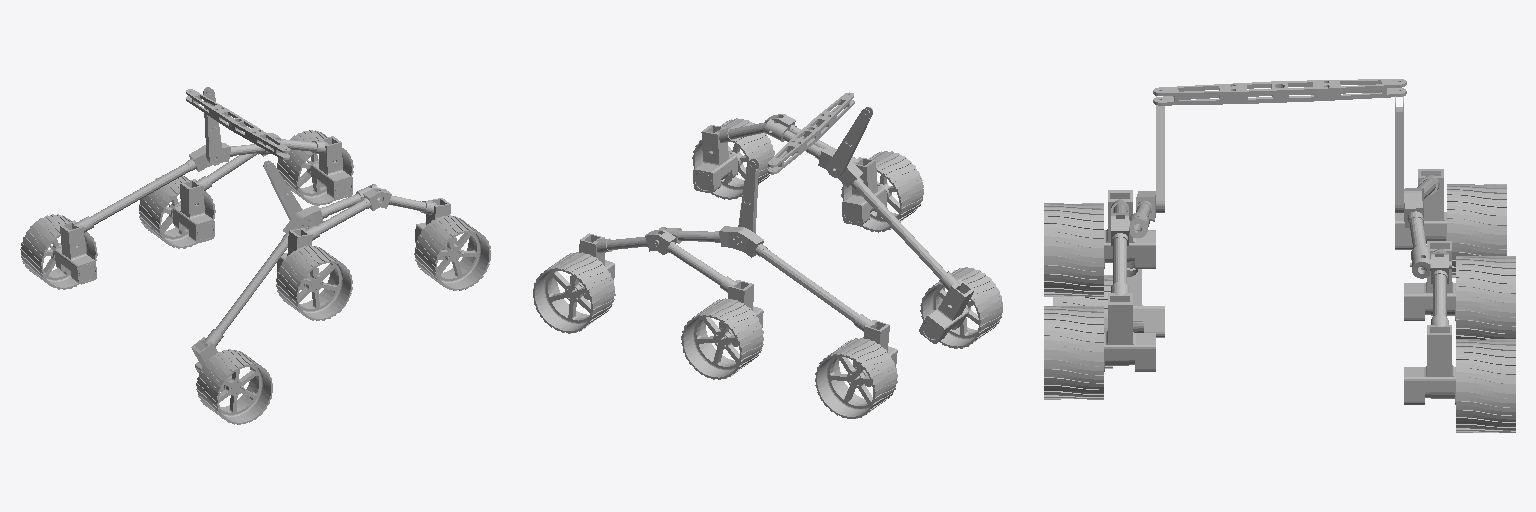
--- Facts derived from the render (not from the file) ---
The picture shows the robot from 3 angles, left to right: view 1: azimuth 30°, elevation 25°; view 2: azimuth 150°, elevation 25°; view 3: azimuth 270°, elevation 25°; orthographic projection.
Model eg_rover_description_6 with 20 links and 19 joints (1 revolute, 10 continuous, 8 fixed), rooted at base_link, posed all joints at 0.
Links seen in each view (by area): view 1: right_front_wheel, right_middle_wheel, right_rear_wheel, left_rear_wheel, left_middle_wheel, right_rocker, left_front_wheel, left_rocker, left_rear, left_middle, left_front, diff_bar (+7 smaller); view 2: left_rear_wheel, left_middle_wheel, left_front_wheel, right_rear_wheel, right_middle_wheel, left_rocker, right_rocker, right_front_wheel, right_front, right_rear, diff_bar, left_bogie (+7 smaller); view 3: left_front_wheel, right_middle_wheel, right_front_wheel, left_middle_wheel, diff_bar, left_rear_wheel, right_front, left_front, left_rear, left_rocker, left_middle, right_middle (+7 smaller).
Link boxes in pixels (x1,y1,x2,y2): right_front_wheel: (414, 215, 490, 290); right_middle_wheel: (276, 245, 352, 320); right_rear_wheel: (196, 349, 272, 424); left_rear_wheel: (20, 214, 97, 289); left_middle_wheel: (139, 175, 215, 248); right_rocker: (215, 184, 377, 334); left_front_wheel: (277, 130, 353, 205); left_rocker: (90, 139, 280, 224); left_rear: (55, 216, 96, 284); left_middle: (173, 176, 214, 242); left_front: (311, 136, 352, 199); diff_bar: (186, 89, 290, 159); left_rear_wheel: (815, 338, 897, 418); left_middle_wheel: (681, 298, 763, 379); left_front_wheel: (533, 252, 615, 333); right_rear_wheel: (920, 267, 1002, 348); right_middle_wheel: (841, 151, 923, 232); left_rocker: (659, 226, 858, 322); right_rocker: (764, 119, 946, 278); right_front_wheel: (692, 118, 774, 199); right_front: (693, 125, 737, 192); right_rear: (919, 271, 974, 343); diff_bar: (768, 92, 854, 174); left_bogie: (607, 230, 724, 284); left_front_wheel: (1456, 339, 1515, 432); right_middle_wheel: (1044, 203, 1103, 296); right_front_wheel: (1044, 306, 1103, 399); left_middle_wheel: (1456, 256, 1515, 339); diff_bar: (1153, 79, 1406, 105); left_rear_wheel: (1447, 184, 1506, 277); right_front: (1104, 282, 1155, 371); left_front: (1404, 315, 1455, 404); left_rear: (1395, 169, 1446, 249); left_rocker: (1404, 179, 1435, 278); left_middle: (1404, 241, 1455, 320); right_middle: (1104, 190, 1155, 268).
Bounding box of the posed robot: 1.15 × 1.03 × 0.7936 m (x, y, z).
Meshes: 20 distinct files referenced, 19 mesh visuals loaded (19 binary STL); not drawn: 1 (reference not matched to a file when rendering).

URDF robot description (eg_rover_description_6):
<?xml version="1.0" encoding="utf-8"?>

<robot
  name="eg_rover_description_6">
  <link
    name="base_link">
    <inertial>
      <origin
        xyz="2.38661992415745 0.504337170599516 -0.885495293586809"
        rpy="0 0 0" />
      <mass
        value="21.9558501187518" />
      <inertia
        ixx="0.0752569490227677"
        ixy="0.00142070556307953"
        ixz="1.29531988594617E-05"
        iyy="0.17820755503312"
        iyz="-1.79109940665844E-07"
        izz="0.128637677707828" />
    </inertial>
    <visual>
      <origin
        xyz="0 0 0"
        rpy="0 0 0" />
      <geometry>
        <mesh
          filename="package://eg_rover_description_6/meshes/base_link.STL" />
      </geometry>
      <material
        name="">
        <color
          rgba="0.752941176470588 0.752941176470588 0.752941176470588 1" />
      </material>
    </visual>
    <collision>
      <origin
        xyz="0 0 0"
        rpy="0 0 0" />
      <geometry>
        <mesh
          filename="package://eg_rover_description_6/meshes/base_link.STL" />
      </geometry>
    </collision>
  </link>
  <link
    name="left_bar_to_rocker_part">
    <inertial>
      <origin
        xyz="-0.000918725857865343 0.0832304537898531 -0.0119005930670613"
        rpy="0 0 0" />
      <mass
        value="0.308748627193075" />
      <inertia
        ixx="0.00044687239184303"
        ixy="4.21523166255905E-06"
        ixz="3.42081987813343E-07"
        iyy="6.50469609482496E-05"
        iyz="-3.09903534747858E-05"
        izz="0.000470289309245914" />
    </inertial>
    <visual>
      <origin
        xyz="0 0 0"
        rpy="0 0 0" />
      <geometry>
        <mesh
          filename="package://eg_rover_description_6/meshes/left_bar_to_rocker_part.STL" />
      </geometry>
      <material
        name="">
        <color
          rgba="0.752941176470588 0.752941176470588 0.752941176470588 1" />
      </material>
    </visual>
    <collision>
      <origin
        xyz="0 0 0"
        rpy="0 0 0" />
      <geometry>
        <mesh
          filename="package://eg_rover_description_6/meshes/left_bar_to_rocker_part.STL" />
      </geometry>
    </collision>
  </link>
  <joint
    name="left_bar_to_rocker_part"
    type="continuous">
    <origin
      xyz="2.4025478208424 1.13655297354084 0.480446093957099"
      rpy="1.5707963267949 -0.0840543003467953 0" />
    <parent
      link="base_link" />
    <child
      link="left_bar_to_rocker_part" />
    <axis
      xyz="0 0 1" />
  </joint>
  <link
    name="left_rocker">
    <inertial>
      <origin
        xyz="2.35091117701467 0.439107018325555 -1.18782206610311"
        rpy="0 0 0" />
      <mass
        value="0.787174719629345" />
      <inertia
        ixx="0.000666994809630536"
        ixy="-0.00122943811392355"
        ixz="-0.000400522360860901"
        iyy="0.00572484548325491"
        iyz="-0.000129201406496319"
        izz="0.00612253885749675" />
    </inertial>
    <visual>
      <origin
        xyz="0 0 0"
        rpy="0 0 0" />
      <geometry>
        <mesh
          filename="package://eg_rover_description_6/meshes/left_rocker.STL" />
      </geometry>
      <material
        name="">
        <color
          rgba="0.752941176470588 0.752941176470588 0.752941176470588 1" />
      </material>
    </visual>
    <collision>
      <origin
        xyz="0 0 0"
        rpy="0 0 0" />
      <geometry>
        <mesh
          filename="package://eg_rover_description_6/meshes/left_rocker.STL" />
      </geometry>
    </collision>
  </link>
  <joint
    name="left_bar_to_rocker_to_left_rocker"
    type="fixed">
    <origin
      xyz="-2.40250332942615 -0.48066852687615 1.13655297354084"
      rpy="0 0 9.25829557298728E-05" />
    <parent
      link="left_bar_to_rocker_part" />
    <child
      link="left_rocker" />
    <axis
      xyz="0 0 0" />
  </joint>
  <link
    name="left_bogie">
    <inertial>
      <origin
        xyz="-0.0193408184557593 -0.0314596032232477 -0.0637929305008118"
        rpy="0 0 0" />
      <mass
        value="0.454623116483445" />
      <inertia
        ixx="0.000261881391134114"
        ixy="-7.54087304186821E-05"
        ixz="-7.47425763902341E-10"
        iyy="0.00132611093813923"
        iyz="-1.23979965317765E-08"
        izz="0.00147758149592174" />
    </inertial>
    <visual>
      <origin
        xyz="0 0 0"
        rpy="0 0 0" />
      <geometry>
        <mesh
          filename="package://eg_rover_description_6/meshes/left_bogie.STL" />
      </geometry>
      <material
        name="">
        <color
          rgba="0.752941176470588 0.752941176470588 0.752941176470588 1" />
      </material>
    </visual>
    <collision>
      <origin
        xyz="0 0 0"
        rpy="0 0 0" />
      <geometry>
        <mesh
          filename="package://eg_rover_description_6/meshes/left_bogie.STL" />
      </geometry>
    </collision>
  </link>
  <joint
    name="left_rocker_to_bogie"
    type="continuous">
    <origin
      xyz="2.63771809203281 0.42018326822563 -1.17046699823171"
      rpy="0 0 0.00708892913797644" />
    <parent
      link="left_rocker" />
    <child
      link="left_bogie" />
    <axis
      xyz="0 0 1" />
  </joint>
  <link
    name="left_front">
    <inertial>
      <origin
        xyz="-0.0090609952026921 -0.0282472262167399 -0.101198405920529"
        rpy="0 0 0" />
      <mass
        value="0.984700202432668" />
      <inertia
        ixx="0.00201654345075244"
        ixy="-0.000109327083824658"
        ixz="1.31986921756132E-05"
        iyy="0.00169995942513083"
        iyz="4.47178894633139E-05"
        izz="0.00111748161524583" />
    </inertial>
    <visual>
      <origin
        xyz="0 0 0"
        rpy="0 0 0" />
      <geometry>
        <mesh
          filename="package://eg_rover_description_6/meshes/left_front.STL" />
      </geometry>
      <material
        name="">
        <color
          rgba="0.752941176470588 0.752941176470588 0.752941176470588 1" />
      </material>
    </visual>
    <collision>
      <origin
        xyz="0 0 0"
        rpy="0 0 0" />
      <geometry>
        <mesh
          filename="package://eg_rover_description_6/meshes/left_front.STL" />
      </geometry>
    </collision>
  </link>
  <joint
    name="left_bogie_to_front"
    type="fixed">
    <origin
      xyz="0.215420027178198 -0.203893954501996 -0.161499999999192"
      rpy="-3.14159265358935 0 -0.347551310992827" />
    <parent
      link="left_bogie" />
    <child
      link="left_front" />
    <axis
      xyz="0 0 0" />
  </joint>
  <link
    name="left_front_wheel">
    <inertial>
      <origin
        xyz="-4.15813872887139E-05 8.72209776181521E-06 0.00232056241112288"
        rpy="0 0 0" />
      <mass
        value="0.911975447556342" />
      <inertia
        ixx="0.00433350012733774"
        ixy="1.30282817456608E-08"
        ixz="2.51190680234649E-08"
        iyy="0.00433349182612928"
        iyz="1.83304483959681E-08"
        izz="0.00705740745246957" />
    </inertial>
    <visual>
      <origin
        xyz="0 0 0"
        rpy="0 0 0" />
      <geometry>
        <mesh
          filename="package://eg_rover_description_6/meshes/left_front_wheel.STL" />
      </geometry>
      <material
        name="">
        <color
          rgba="0.752941176470588 0.752941176470588 0.752941176470588 1" />
      </material>
    </visual>
    <collision>
      <origin
        xyz="0 0 0"
        rpy="0 0 0" />
      <geometry>
        <mesh
          filename="package://eg_rover_description_6/meshes/left_front_wheel.STL" />
      </geometry>
    </collision>
  </link>
  <joint
    name="left_front_wheel"
    type="continuous">
    <origin
      xyz="0 0 0"
      rpy="0 0 0.858525155785996" />
    <parent
      link="left_front" />
    <child
      link="left_front_wheel" />
    <axis
      xyz="0 0 1" />
  </joint>
  <link
    name="left_middle">
    <inertial>
      <origin
        xyz="-0.00772152249504865 -0.0286429728655598 -0.101198400038664"
        rpy="0 0 0" />
      <mass
        value="0.984700191454108" />
      <inertia
        ixx="0.00202296173998039"
        ixy="-9.93989986102843E-05"
        ixz="1.3242890821538E-05"
        iyy="0.00169354112397644"
        iyz="4.47533049999543E-05"
        izz="0.0011174816249343" />
    </inertial>
    <visual>
      <origin
        xyz="0 0 0"
        rpy="0 0 0" />
      <geometry>
        <mesh
          filename="package://eg_rover_description_6/meshes/left_middle.STL" />
      </geometry>
      <material
        name="">
        <color
          rgba="0.752941176470588 0.752941176470588 0.752941176470588 1" />
      </material>
    </visual>
    <collision>
      <origin
        xyz="0 0 0"
        rpy="0 0 0" />
      <geometry>
        <mesh
          filename="package://eg_rover_description_6/meshes/left_middle.STL" />
      </geometry>
    </collision>
  </link>
  <joint
    name="left_bogie_to_middle"
    type="fixed">
    <origin
      xyz="-0.286461854062516 -0.190525033440399 -0.161500000000126"
      rpy="-3.14159265358935 0 -0.347551310992871" />
    <parent
      link="left_bogie" />
    <child
      link="left_middle" />
    <axis
      xyz="0 0 0" />
  </joint>
  <link
    name="left_middle_wheel">
    <inertial>
      <origin
        xyz="-4.15813873553272E-05 8.72209784663625E-06 0.00232056241112577"
        rpy="0 0 0" />
      <mass
        value="0.911975447556327" />
      <inertia
        ixx="0.00433350012733773"
        ixy="1.30282818173246E-08"
        ixz="2.51190686647742E-08"
        iyy="0.00433349182612915"
        iyz="1.83304483850796E-08"
        izz="0.00705740745246946" />
    </inertial>
    <visual>
      <origin
        xyz="0 0 0"
        rpy="0 0 0" />
      <geometry>
        <mesh
          filename="package://eg_rover_description_6/meshes/left_middle_wheel.STL" />
      </geometry>
      <material
        name="">
        <color
          rgba="0.752941176470588 0.752941176470588 0.752941176470588 1" />
      </material>
    </visual>
    <collision>
      <origin
        xyz="0 0 0"
        rpy="0 0 0" />
      <geometry>
        <mesh
          filename="package://eg_rover_description_6/meshes/left_middle_wheel.STL" />
      </geometry>
    </collision>
  </link>
  <joint
    name="left_middle_wheel"
    type="continuous">
    <origin
      xyz="0 0 0"
      rpy="0 0 0.699300464127683" />
    <parent
      link="left_middle" />
    <child
      link="left_middle_wheel" />
    <axis
      xyz="0 0 1" />
  </joint>
  <link
    name="left_rear">
    <inertial>
      <origin
        xyz="-0.00753898041950563 -0.0301681728303583 -0.101202571046475"
        rpy="0 0 0" />
      <mass
        value="1.00010048823147" />
      <inertia
        ixx="0.00203113945682491"
        ixy="-9.09814090441685E-05"
        ixz="1.5327739408665E-05"
        iyy="0.00171141337078556"
        iyz="4.34814787168556E-05"
        izz="0.00114006960607522" />
    </inertial>
    <visual>
      <origin
        xyz="0 0 0"
        rpy="0 0 0" />
      <geometry>
        <mesh
          filename="package://eg_rover_description_6/meshes/left_rear.STL" />
      </geometry>
      <material
        name="">
        <color
          rgba="0.752941176470588 0.752941176470588 0.752941176470588 1" />
      </material>
    </visual>
    <collision>
      <origin
        xyz="0 0 0"
        rpy="0 0 0" />
      <geometry>
        <mesh
          filename="package://eg_rover_description_6/meshes/left_rear.STL" />
      </geometry>
    </collision>
  </link>
  <joint
    name="left_rocker_to_rear"
    type="fixed">
    <origin
      xyz="1.91229634516248 0.232146570056845 -1.31281574342478"
      rpy="-3.14159265358946 0 -0.275906441277532" />
    <parent
      link="left_rocker" />
    <child
      link="left_rear" />
    <axis
      xyz="0 0 0" />
  </joint>
  <link
    name="left_rear_wheel">
    <inertial>
      <origin
        xyz="-4.15813893461792E-05 8.72209708058236E-06 0.00232056241112466"
        rpy="0 0 0" />
      <mass
        value="0.911975447556332" />
      <inertia
        ixx="0.00433350012733774"
        ixy="1.3028281812769E-08"
        ixz="2.51190691343233E-08"
        iyy="0.00433349182612919"
        iyz="1.83304484198715E-08"
        izz="0.00705740745246952" />
    </inertial>
    <visual>
      <origin
        xyz="0 0 0"
        rpy="0 0 0" />
      <geometry>
        <mesh
          filename="package://eg_rover_description_6/meshes/left_rear_wheel.STL" />
      </geometry>
      <material
        name="">
        <color
          rgba="0.752941176470588 0.752941176470588 0.752941176470588 1" />
      </material>
    </visual>
    <collision>
      <origin
        xyz="0 0 0"
        rpy="0 0 0" />
      <geometry>
        <mesh
          filename="package://eg_rover_description_6/meshes/left_rear_wheel.STL" />
      </geometry>
    </collision>
  </link>
  <joint
    name="left_rear_wheel"
    type="continuous">
    <origin
      xyz="0 0 0"
      rpy="0 0 0.636177629456517" />
    <parent
      link="left_rear" />
    <child
      link="left_rear_wheel" />
    <axis
      xyz="0 0 1" />
  </joint>
  <link
    name="right_bar_to_rocker_part">
    <inertial>
      <origin
        xyz="0.0027325888668881 0.0831906572490931 -0.0280994069330528"
        rpy="0 0 0" />
      <mass
        value="0.308748627193075" />
      <inertia
        ixx="0.000446507295907767"
        ixy="-1.25314722090995E-05"
        ixz="1.01746285182487E-06"
        iyy="6.54120568835812E-05"
        iyz="3.09755354748057E-05"
        izz="0.000470289309245848" />
    </inertial>
    <visual>
      <origin
        xyz="0 0 0"
        rpy="0 0 0" />
      <geometry>
        <mesh
          filename="package://eg_rover_description_6/meshes/right_bar_to_rocker_part.STL" />
      </geometry>
      <material
        name="">
        <color
          rgba="0.752941176470588 0.752941176470588 0.752941176470588 1" />
      </material>
    </visual>
    <collision>
      <origin
        xyz="0 0 0"
        rpy="0 0 0" />
      <geometry>
        <mesh
          filename="package://eg_rover_description_6/meshes/right_bar_to_rocker_part.STL" />
      </geometry>
    </collision>
  </link>
  <joint
    name="right_bar_to_rocker_part"
    type="continuous">
    <origin
      xyz="2.40254782084161 0.594552973540831 0.480446093955982"
      rpy="1.5707963267949 -0.509027810384565 0" />
    <parent
      link="base_link" />
    <child
      link="right_bar_to_rocker_part" />
    <axis
      xyz="0 0 1" />
  </joint>
  <link
    name="right_rocker">
    <inertial>
      <origin
        xyz="2.34643853311514 0.438139985875483 -0.582650304965621"
        rpy="0 0 0" />
      <mass
        value="0.737544718103938" />
      <inertia
        ixx="0.000591741128773476"
        ixy="-0.00111330230843845"
        ixz="0.000402541844146693"
        iyy="0.00570759748254399"
        iyz="0.000120389662982498"
        izz="0.00604485187841453" />
    </inertial>
    <visual>
      <origin
        xyz="0 0 0"
        rpy="0 0 0" />
      <geometry>
        <mesh
          filename="package://eg_rover_description_6/meshes/right_rocker.STL" />
      </geometry>
      <material
        name="">
        <color
          rgba="0.752941176470588 0.752941176470588 0.752941176470588 1" />
      </material>
    </visual>
    <collision>
      <origin
        xyz="0 0 0"
        rpy="0 0 0" />
      <geometry>
        <mesh
          filename="package://eg_rover_description_6/meshes/right_rocker.STL" />
      </geometry>
    </collision>
  </link>
  <joint
    name="right_bar_to_rocker_to_right_rocker"
    type="fixed">
    <origin
      xyz="-2.41208421327916 -0.430016544651362 0.594552973540831"
      rpy="0 0 -0.0209476881593108" />
    <parent
      link="right_bar_to_rocker_part" />
    <child
      link="right_rocker" />
    <axis
      xyz="0 0 0" />
  </joint>
  <link
    name="right_bogie">
    <inertial>
      <origin
        xyz="-0.019929533157355 -0.0325479043467601 -0.0209593529062523"
        rpy="0 0 0" />
      <mass
        value="0.43990576066683" />
      <inertia
        ixx="0.000256317299794027"
        ixy="-7.73170052505528E-05"
        ixz="7.38788938717426E-10"
        iyy="0.00131999900583864"
        iyz="1.23988144106525E-08"
        izz="0.00147676429447227" />
    </inertial>
    <visual>
      <origin
        xyz="0 0 0"
        rpy="0 0 0" />
      <geometry>
        <mesh
          filename="package://eg_rover_description_6/meshes/right_bogie.STL" />
      </geometry>
      <material
        name="">
        <color
          rgba="0.752941176470588 0.752941176470588 0.752941176470588 1" />
      </material>
    </visual>
    <collision>
      <origin
        xyz="0 0 0"
        rpy="0 0 0" />
      <geometry>
        <mesh
          filename="package://eg_rover_description_6/meshes/right_bogie.STL" />
      </geometry>
    </collision>
  </link>
  <joint
    name="right_rocker_to_bogie"
    type="continuous">
    <origin
      xyz="2.63628092293658 0.414829772803047 -0.515685209774159"
      rpy="0 0 -0.488080122225254" />
    <parent
      link="right_rocker" />
    <child
      link="right_bogie" />
    <axis
      xyz="0 0 1" />
  </joint>
  <link
    name="right_front">
    <inertial>
      <origin
        xyz="-0.00772095536529127 -0.0286425197716159 -0.101198400044725"
        rpy="0 0 0" />
      <mass
        value="0.984700190697898" />
      <inertia
        ixx="0.00202295937794559"
        ixy="-9.93984690776743E-05"
        ixz="1.31987274542782E-05"
        iyy="0.00169354348541162"
        iyz="4.47180111132429E-05"
        izz="0.00111748161412814" />
    </inertial>
    <visual>
      <origin
        xyz="0 0 0"
        rpy="0 0 0" />
      <geometry>
        <mesh
          filename="package://eg_rover_description_6/meshes/right_front.STL" />
      </geometry>
      <material
        name="">
        <color
          rgba="0.752941176470588 0.752941176470588 0.752941176470588 1" />
      </material>
    </visual>
    <collision>
      <origin
        xyz="0 0 0"
        rpy="0 0 0" />
      <geometry>
        <mesh
          filename="package://eg_rover_description_6/meshes/right_front.STL" />
      </geometry>
    </collision>
  </link>
  <joint
    name="right_front"
    type="fixed">
    <origin
      xyz="0.215785375587514 -0.203507259021123 0.0765462609250908"
      rpy="0 0 -2.91364691374163" />
    <parent
      link="right_bogie" />
    <child
      link="right_front" />
    <axis
      xyz="0 0 0" />
  </joint>
  <link
    name="right_front_wheel">
    <inertial>
      <origin
        xyz="-4.15813950680466E-05 8.72210229807546E-06 0.00232056242183581"
        rpy="0 0 0" />
      <mass
        value="0.911975447964754" />
      <inertia
        ixx="0.00433350012751831"
        ixy="1.30282818670705E-08"
        ixz="2.51190414435252E-08"
        iyy="0.0043334918263162"
        iyz="1.8330368239632E-08"
        izz="0.00705740745247098" />
    </inertial>
    <visual>
      <origin
        xyz="0 0 0"
        rpy="0 0 0" />
      <geometry>
        <mesh
          filename="package://eg_rover_description_6/meshes/right_front_wheel.STL" />
      </geometry>
      <material
        name="">
        <color
          rgba="0.752941176470588 0.752941176470588 0.752941176470588 1" />
      </material>
    </visual>
    <collision>
      <origin
        xyz="0 0 0"
        rpy="0 0 0" />
      <geometry>
        <mesh
          filename="package://eg_rover_description_6/meshes/right_front_wheel.STL" />
      </geometry>
    </collision>
  </link>
  <joint
    name="right_front_wheel"
    type="continuous">
    <origin
      xyz="0 0 0"
      rpy="0 0 0.188763213719474" />
    <parent
      link="right_front" />
    <child
      link="right_front_wheel" />
    <axis
      xyz="0 0 1" />
  </joint>
  <link
    name="right_middle">
    <inertial>
      <origin
        xyz="-0.00909825232196759 -0.0283795775743039 -0.101224880231788"
        rpy="0 0 0" />
      <mass
        value="0.987119607435848" />
      <inertia
        ixx="0.00201694898932086"
        ixy="-0.000109439332842155"
        ixz="1.31986913632115E-05"
        iyy="0.0017000175120106"
        iyz="4.4717886155626E-05"
        izz="0.00111792023961772" />
    </inertial>
    <visual>
      <origin
        xyz="0 0 0"
        rpy="0 0 0" />
      <geometry>
        <mesh
          filename="package://eg_rover_description_6/meshes/right_middle.STL" />
      </geometry>
      <material
        name="">
        <color
          rgba="0.752941176470588 0.752941176470588 0.752941176470588 1" />
      </material>
    </visual>
    <collision>
      <origin
        xyz="0 0 0"
        rpy="0 0 0" />
      <geometry>
        <mesh
          filename="package://eg_rover_description_6/meshes/right_middle.STL" />
      </geometry>
    </collision>
  </link>
  <joint
    name="right_middle"
    type="fixed">
    <origin
      xyz="-0.286119676303167 -0.191038511908769 0.0765462609241698"
      rpy="0 0 -2.91364691374163" />
    <parent
      link="right_bogie" />
    <child
      link="right_middle" />
    <axis
      xyz="0 0 0" />
  </joint>
  <link
    name="right_middle_wheel">
    <inertial>
      <origin
        xyz="-4.15813948939636E-05 8.72210195879131E-06 0.00232056242241629"
        rpy="0 0 0" />
      <mass
        value="0.911975447986274" />
      <inertia
        ixx="0.004333500127529"
        ixy="1.30282823203754E-08"
        ixz="2.51190287856415E-08"
        iyy="0.00433349182632662"
        iyz="1.83303758752248E-08"
        izz="0.00705740745247123" />
    </inertial>
    <visual>
      <origin
        xyz="0 0 0"
        rpy="0 0 0" />
      <geometry>
        <mesh
          filename="package://eg_rover_description_6/meshes/right_middle_wheel.STL" />
      </geometry>
      <material
        name="">
        <color
          rgba="0.752941176470588 0.752941176470588 0.752941176470588 1" />
      </material>
    </visual>
    <collision>
      <origin
        xyz="0 0 0"
        rpy="0 0 0" />
      <geometry>
        <mesh
          filename="package://eg_rover_description_6/meshes/right_middle_wheel.STL" />
      </geometry>
    </collision>
  </link>
  <joint
    name="right_middle_wheel"
    type="continuous">
    <origin
      xyz="0 0 0"
      rpy="0 0 0.014230288520328" />
    <parent
      link="right_middle" />
    <child
      link="right_middle_wheel" />
    <axis
      xyz="0 0 1" />
  </joint>
  <link
    name="right_rear">
    <inertial>
      <origin
        xyz="-0.0100416703680366 -0.0294299351766889 -0.101202567027641"
        rpy="0 0 0" />
      <mass
        value="1.00010060346169" />
      <inertia
        ixx="0.00201990423650742"
        ixy="-0.00010836821557808"
        ixz="1.07229346760883E-05"
        iyy="0.00172264566793048"
        iyz="4.48406533227325E-05"
        izz="0.00114006866529997" />
    </inertial>
    <visual>
      <origin
        xyz="0 0 0"
        rpy="0 0 0" />
      <geometry>
        <mesh
          filename="package://eg_rover_description_6/meshes/right_rear.STL" />
      </geometry>
      <material
        name="">
        <color
          rgba="0.752941176470588 0.752941176470588 0.752941176470588 1" />
      </material>
    </visual>
    <collision>
      <origin
        xyz="0 0 0"
        rpy="0 0 0" />
      <geometry>
        <mesh
          filename="package://eg_rover_description_6/meshes/right_rear.STL" />
      </geometry>
    </collision>
  </link>
  <joint
    name="right_rear"
    type="fixed">
    <origin
      xyz="1.90675517671105 0.243404289621995 -0.45829020365838"
      rpy="0 0 -2.86662871653517" />
    <parent
      link="right_rocker" />
    <child
      link="right_rear" />
    <axis
      xyz="0 0 0" />
  </joint>
  <link
    name="right_rear_wheel">
    <inertial>
      <origin
        xyz="-4.1581381166278E-05 8.72209309261962E-06 0.00232056239958517"
        rpy="0 0 0" />
      <mass
        value="0.911975447117928" />
      <inertia
        ixx="0.00433350012714164"
        ixy="1.30282807228306E-08"
        ixz="2.51191241354201E-08"
        iyy="0.00433349182592735"
        iyz="1.83305102794147E-08"
        izz="0.00705740745246768" />
    </inertial>
    <visual>
      <origin
        xyz="0 0 0"
        rpy="0 0 0" />
      <geometry>
        <mesh
          filename="package://eg_rover_description_6/meshes/right_rear_wheel.STL" />
      </geometry>
      <material
        name="">
        <color
          rgba="0.752941176470588 0.752941176470588 0.752941176470588 1" />
      </material>
    </visual>
    <collision>
      <origin
        xyz="0 0 0"
        rpy="0 0 0" />
      <geometry>
        <mesh
          filename="package://eg_rover_description_6/meshes/right_rear_wheel.STL" />
      </geometry>
    </collision>
  </link>
  <joint
    name="right_rear_wheel"
    type="continuous">
    <origin
      xyz="0 0 0"
      rpy="0 0 -0.695400956110486" />
    <parent
      link="right_rear" />
    <child
      link="right_rear_wheel" />
    <axis
      xyz="0 0 1" />
  </joint>
  <link
    name="diff_bar">
    <inertial>
      <origin
        xyz="-5.72836668508714E-05 0.0161985685036556 3.46965441455627E-06"
        rpy="0 0 0" />
      <mass
        value="0.482448636050748" />
      <inertia
        ixx="0.00192856887675019"
        ixy="6.71351139864318E-07"
        ixz="-2.06325799274867E-05"
        iyy="0.00197110245167036"
        iyz="3.12121496163515E-07"
        izz="0.000129518252975519" />
    </inertial>
    <visual>
      <origin
        xyz="0 0 0"
        rpy="0 0 0" />
      <geometry>
        <mesh
          filename="package://eg_rover_description_6/meshes/diff_bar.STL" />
      </geometry>
      <material
        name="">
        <color
          rgba="0.752941176470588 0.752941176470588 0.752941176470588 1" />
      </material>
    </visual>
    <collision>
      <origin
        xyz="0 0 0"
        rpy="0 0 0" />
      <geometry>
        <mesh
          filename="package://eg_rover_description_6/meshes/diff_bar.STL" />
      </geometry>
    </collision>
  </link>
  <joint
    name="base_diff_bar"
    type="revolute">
    <origin
      xyz="2.3355 0.88555 0.69756"
      rpy="1.5718 -0.0013808 0.071977" />
    <parent
      link="base_link" />
    <child
      link="diff_bar" />
    <axis
      xyz="0.015141 0.99989 0" />
    <limit
      lower="-0.785"
      upper="0.785"
      effort="0"
      velocity="0" />
  </joint>
</robot>
